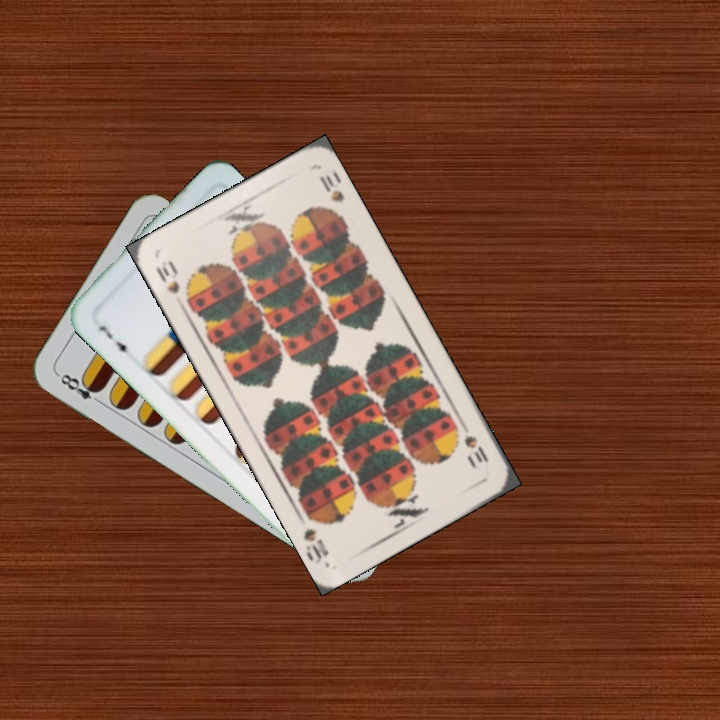E7: (93, 321, 132, 361)
E8: (54, 369, 106, 408)
S10: (152, 257, 182, 296), (460, 431, 491, 466)
